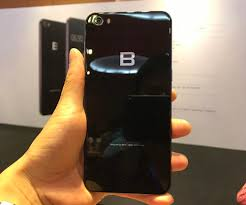bphone: (82, 9, 172, 196), (36, 14, 64, 114)
